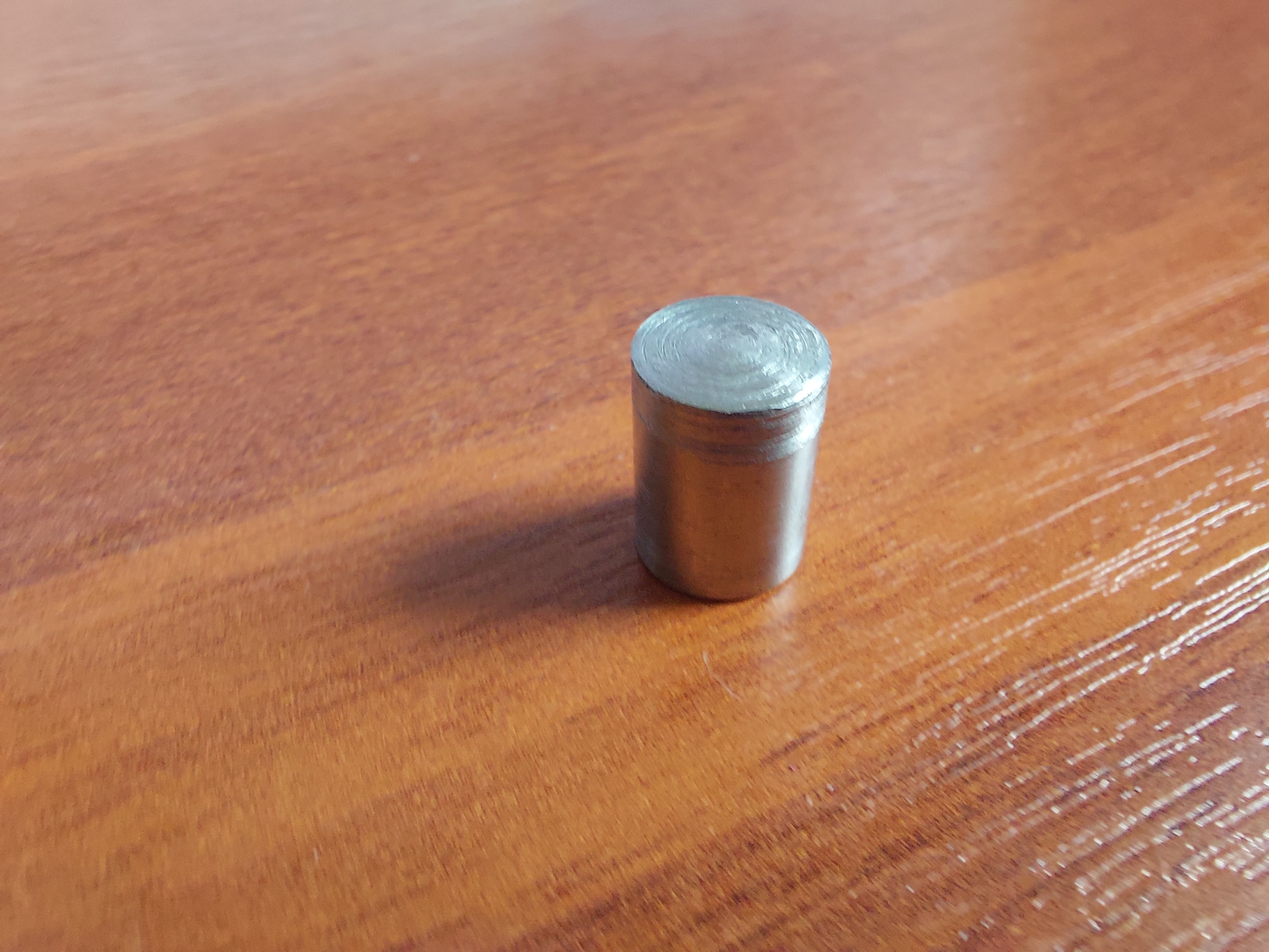tablet: (624, 288, 824, 607)
